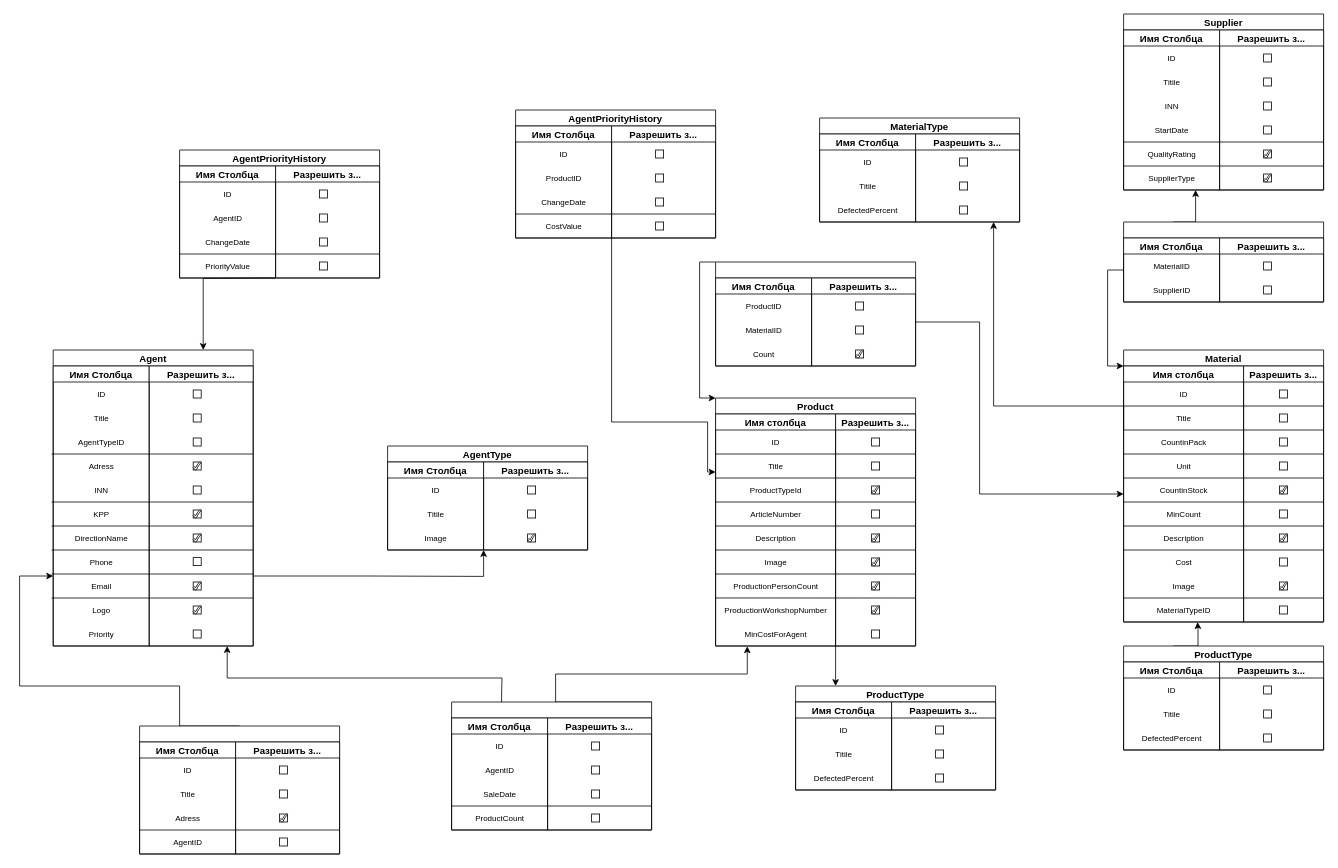
Image size: 1338x868. Some labels were removed from this diagram. The box of each missing label's shape, as (x1, y1, x2, y2) in pixels:
MaterialSupplier: (1123, 221, 1324, 302)
ProductMaterial: (715, 261, 916, 366)
ProductSale: (451, 701, 652, 830)
Shop: (139, 725, 340, 854)
